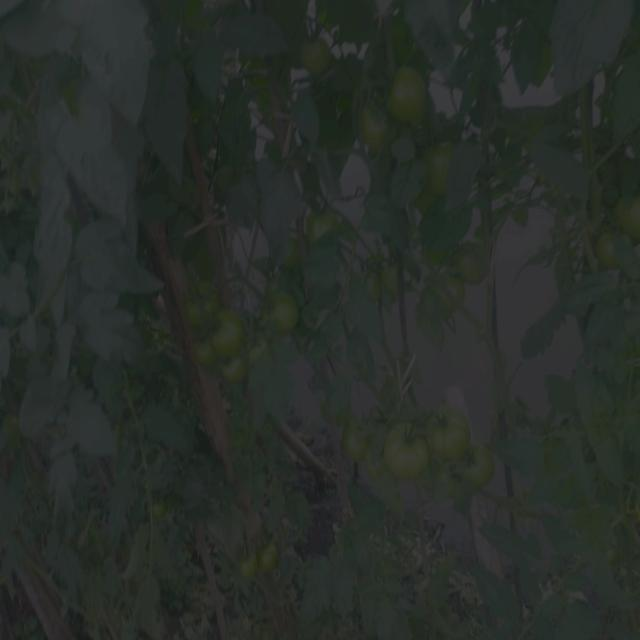tomato: (384, 425, 438, 476), (356, 101, 394, 159), (389, 67, 428, 121), (433, 406, 469, 461), (211, 309, 250, 359), (189, 287, 228, 335), (260, 288, 303, 328), (457, 447, 496, 489), (296, 31, 325, 69), (460, 241, 488, 278), (617, 196, 640, 240), (303, 203, 331, 237), (225, 353, 252, 386), (430, 143, 451, 185), (344, 430, 373, 459), (598, 230, 619, 268), (189, 336, 217, 364), (262, 545, 288, 571), (243, 551, 267, 578), (382, 258, 400, 292), (445, 276, 466, 302), (150, 498, 168, 518)
